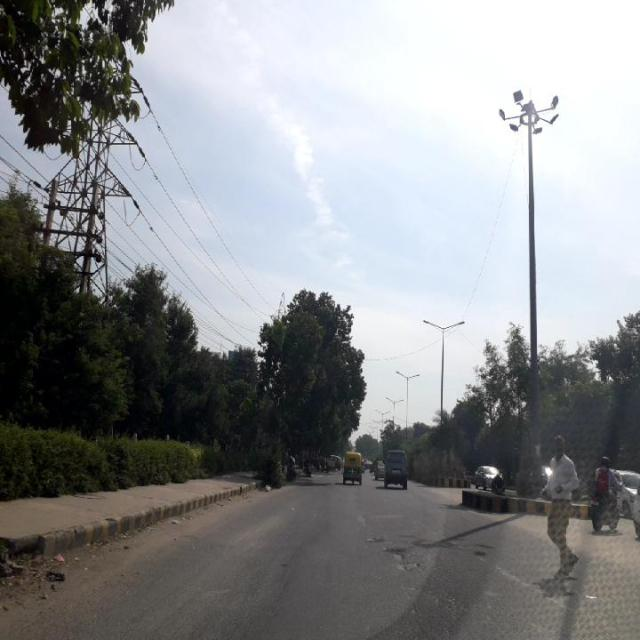D40: (386, 546, 418, 572)
